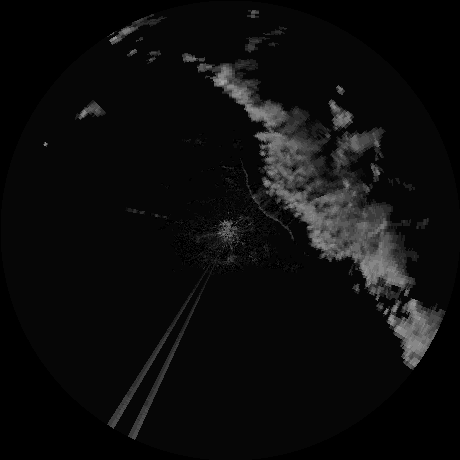frontgust: (244, 169, 295, 240)
